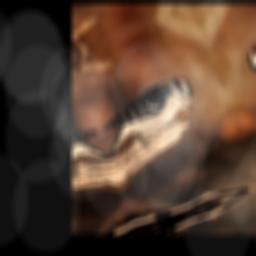Woodpecker: (94, 69, 209, 166)
